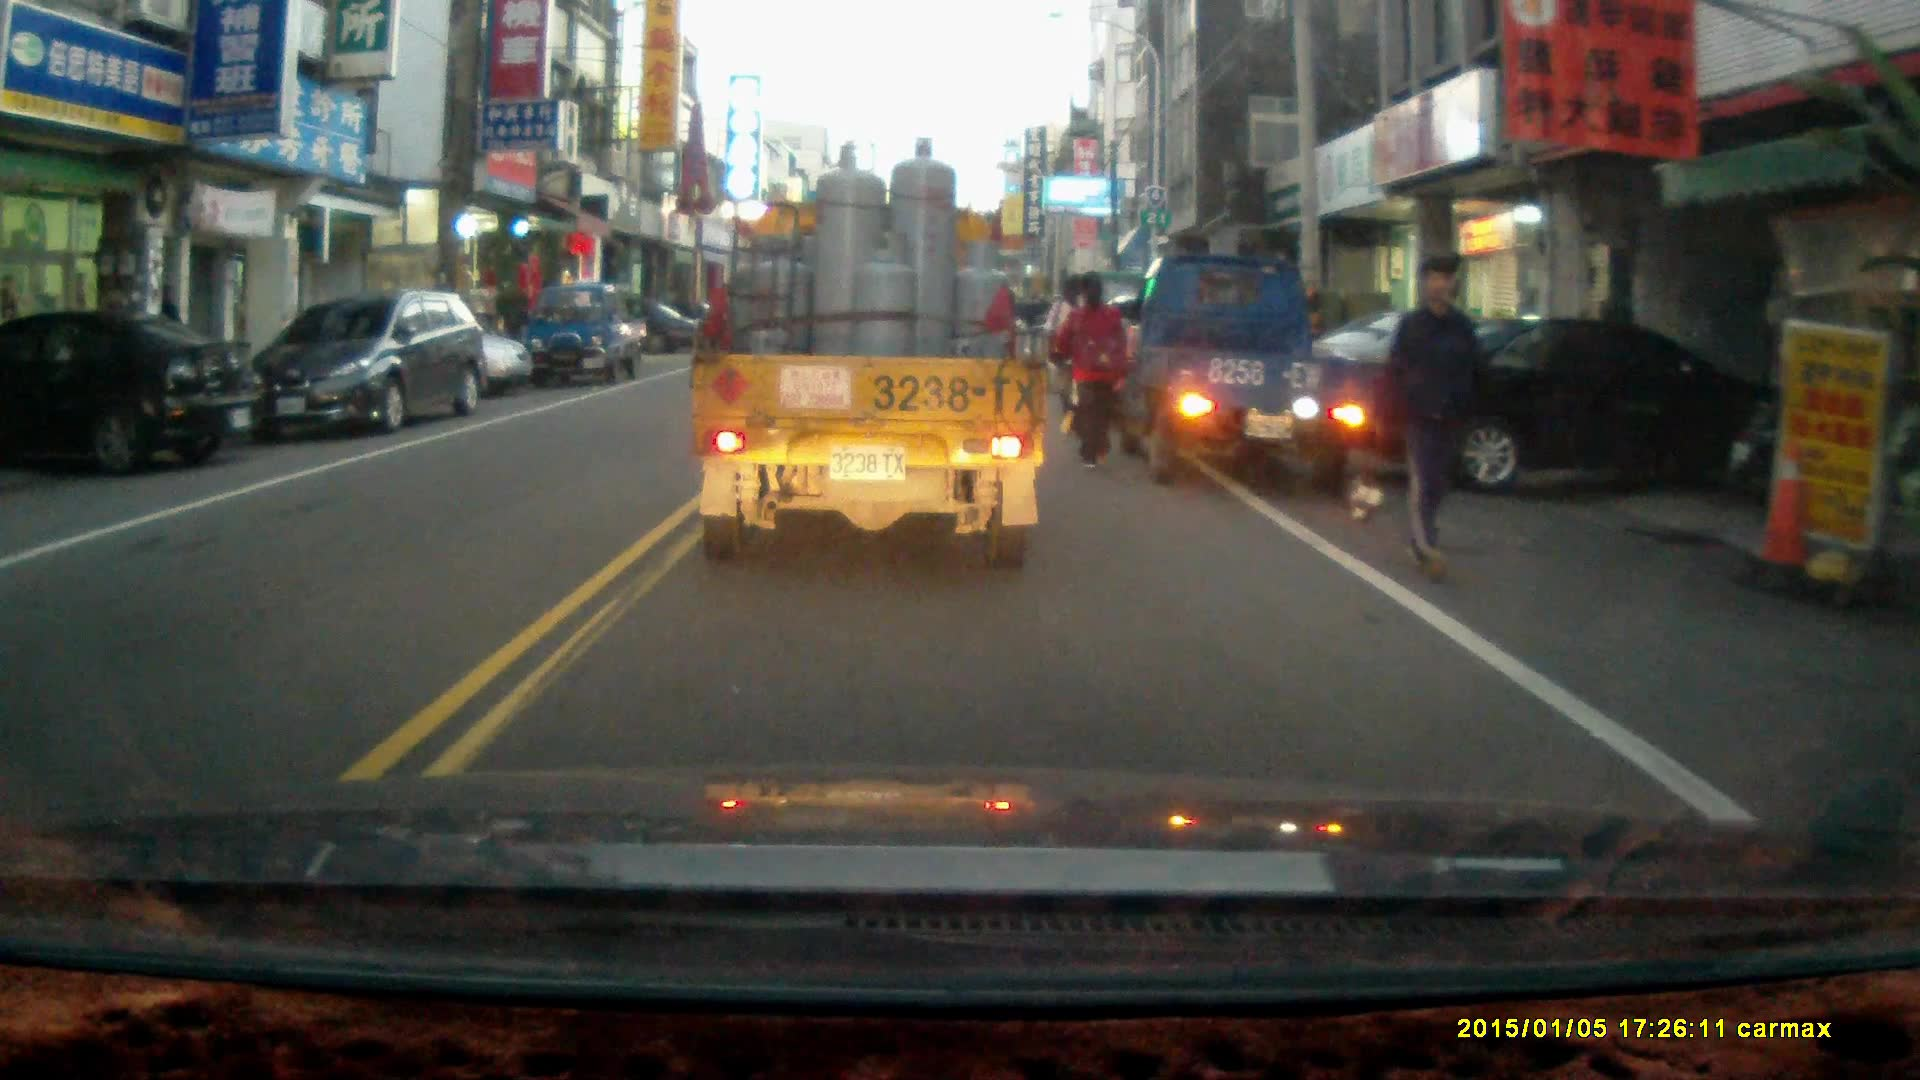pedestrian: (1375, 249, 1485, 579), (1053, 264, 1127, 462)
vehicle: (688, 137, 1053, 572), (1359, 308, 1692, 495), (1127, 251, 1386, 486), (1, 306, 261, 480), (237, 283, 497, 438), (528, 277, 653, 385)
